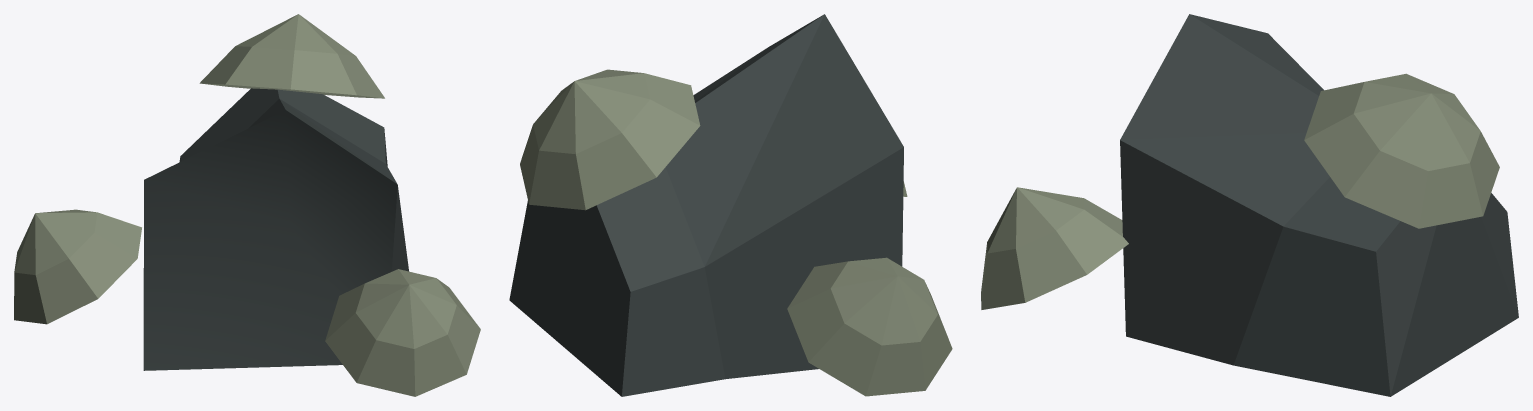
The model's file is fbStump6.fbx.
3 renders of one model, left to right at view 1: azimuth 30°, elevation 25°; view 2: azimuth 150°, elevation 25°; view 3: azimuth 270°, elevation 25°, orthographic. The views are drawn at different scales.
Visible parts, largest first — view 1: fbStump6; view 2: fbStump6; view 3: fbStump6.
Part boxes in pixels (<box>): fbStump6: <box>14,14,480,396</box>; fbStump6: <box>509,14,952,396</box>; fbStump6: <box>981,14,1518,396</box>.
Bounding box in the file's own units: 97.01 × 64.06 × 106.
